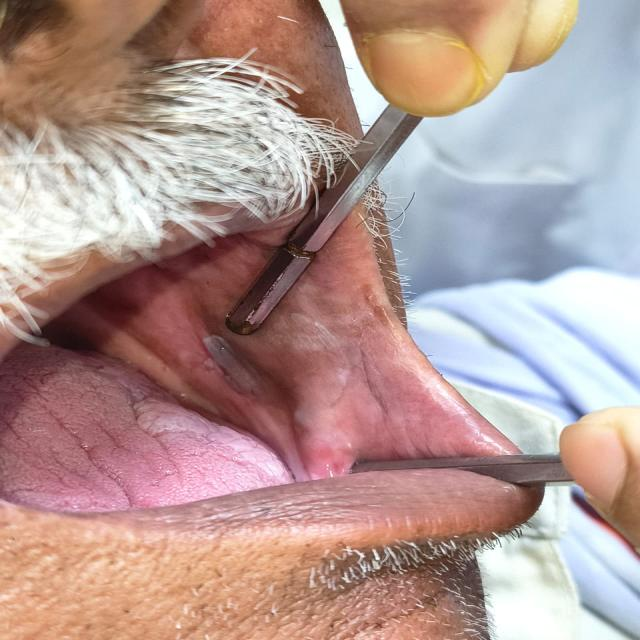leukoplakia-detection: (177, 283, 414, 405)
processing_area: (4, 240, 507, 508)
